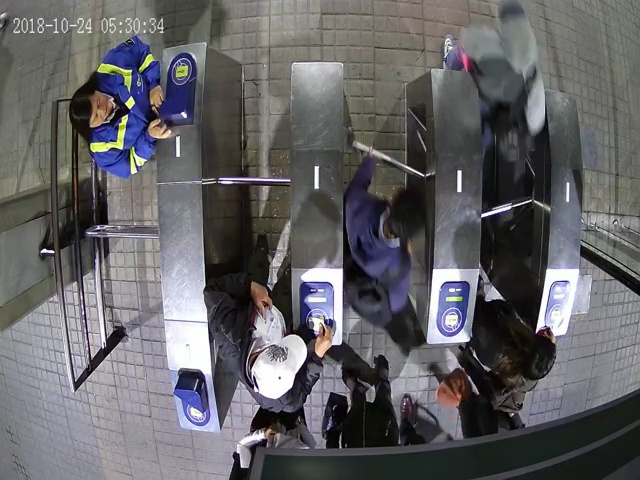Chaleco_azul: (69, 35, 172, 178)
